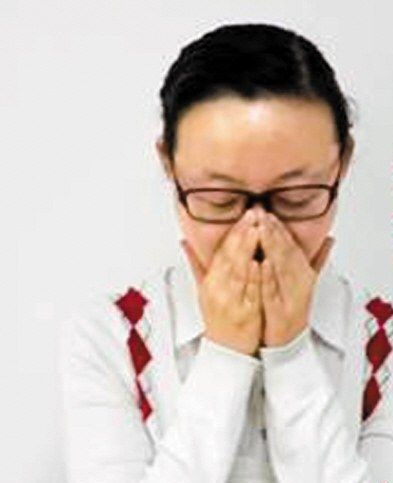face: (180, 97, 334, 303)
